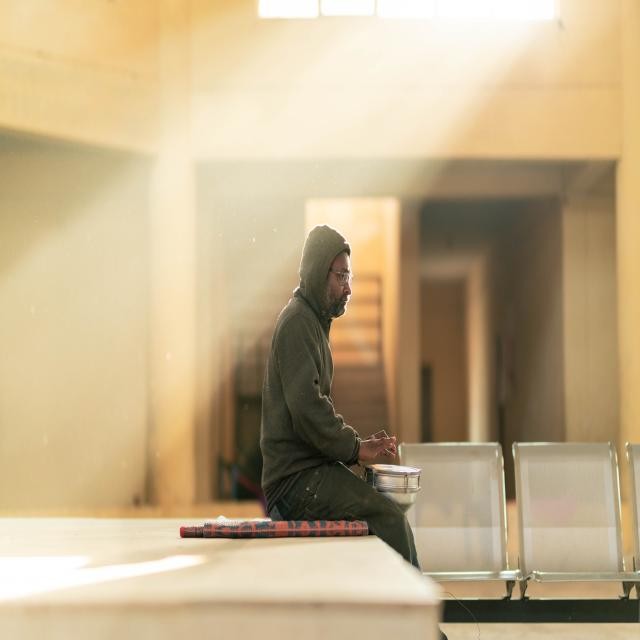nonfall: (259, 188, 417, 540)
